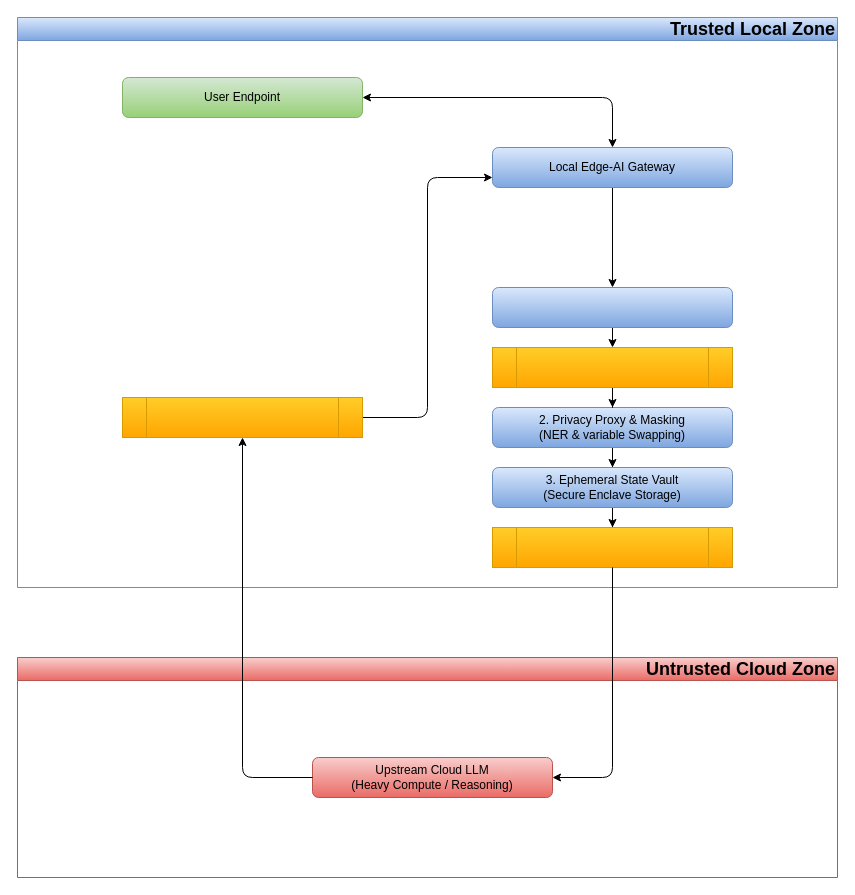
The diagram is 855 pixels wide and 895 high, and some of its shapes have lost their labels. The centre of each missing label's shape, as x and y in pixels:
(A nonymised Payload): [612,547]
(Abstract Response): [242,417]
(If compute / knowledge limit hit): [612,367]
1. Local Processing Engine (SLM / Token Analyser): [612,307]
